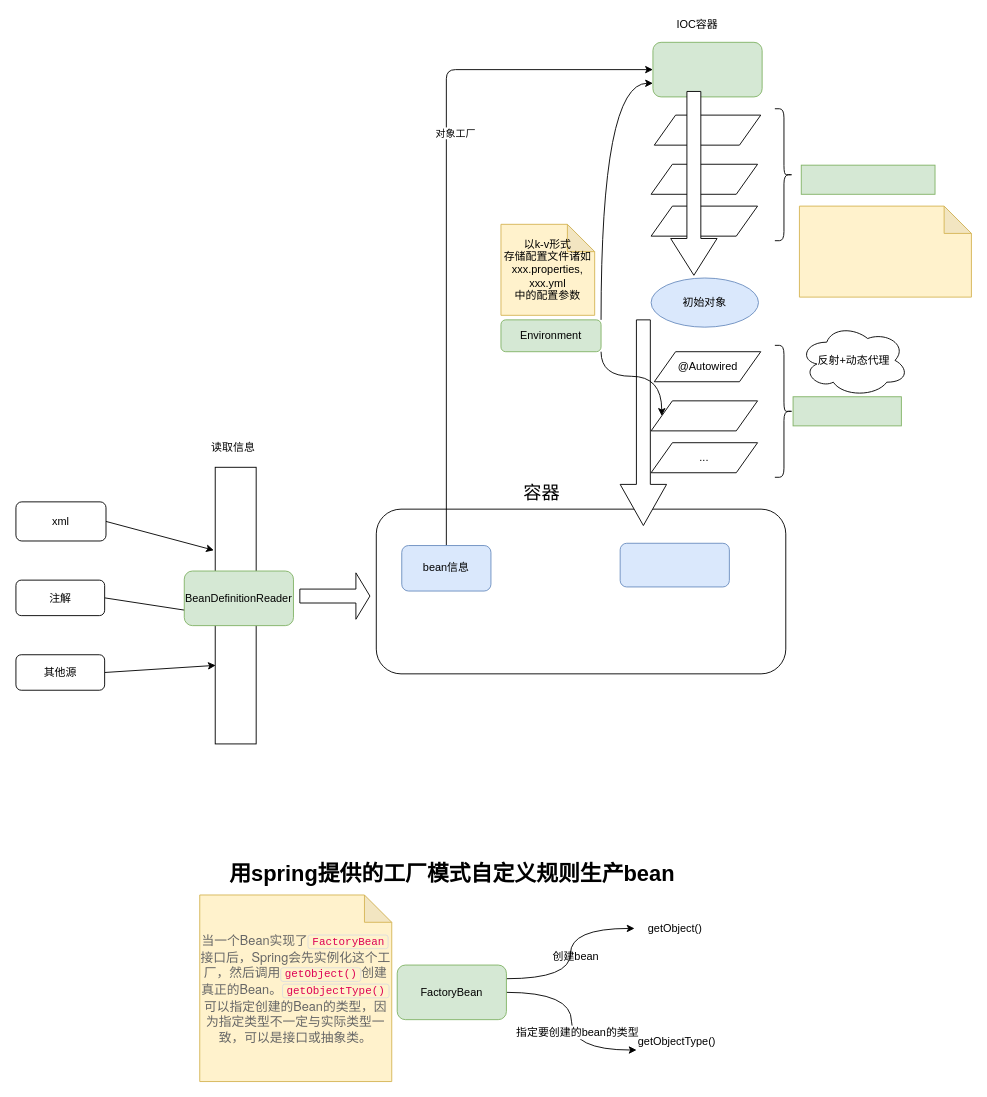
The diagram is 987 pixels wide and 1097 high, and some of its shapes have lost their labels. The shapes that lost their labels are listed below. From the top down, each one's centre as x and y in pixels, then its label:
[707,69]: BeanFactory
[867,179]: BeanFactoryPostProcessor 对工厂进行拓展增强
[885,251]: 创建bean之前对容器进行修改 场景： 运行时根据环境中的配置动态修改bean信息。这个切入点肯定要在创建对象之前实现。
[704,415]: @Value
[846,411]: BeanPostProcessor 对对象拓展增强
[674,564]: bean
